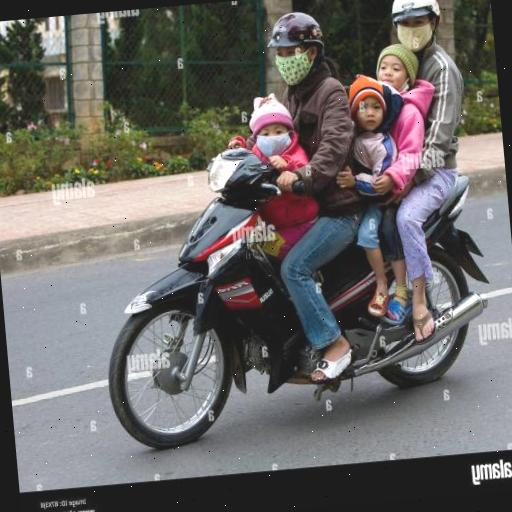no helmet: (260, 6, 344, 128)
triple riding: (62, 0, 507, 458)
